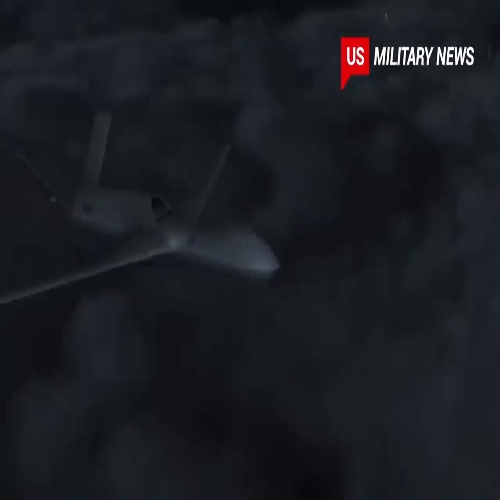uav220: (7, 108, 280, 313)
